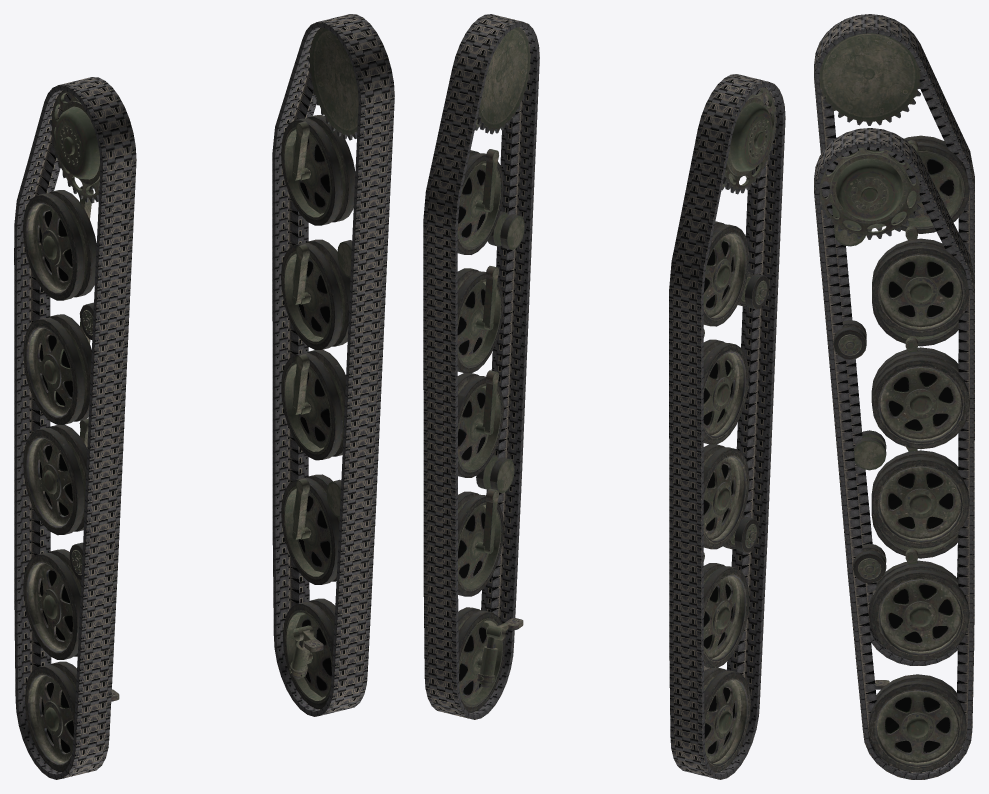
The model's file is Chassis.glb.
The picture shows the model from 3 angles, left to right: view 1: azimuth 30°, elevation 25°; view 2: azimuth 150°, elevation 25°; view 3: azimuth 270°, elevation 25°; orthographic projection. The views are drawn at different scales.
Parts seen in each view (by area): view 1: set_0_group_0, set_1_group_0, set_2_group_0, set_3_group_0; view 2: set_0_group_0, set_1_group_0, set_3_group_0, set_2_group_0; view 3: set_3_group_0, set_1_group_0, set_2_group_0, set_0_group_0.
Part boxes in pixels (x1=…): set_0_group_0: x1=14, y1=77, x2=136, y2=779; set_1_group_0: x1=272, y1=14, x2=394, y2=716; set_2_group_0: x1=23, y1=90, x2=119, y2=772; set_3_group_0: x1=281, y1=27, x2=358, y2=709; set_0_group_0: x1=669, y1=74, x2=785, y2=779; set_1_group_0: x1=423, y1=14, x2=539, y2=719; set_3_group_0: x1=457, y1=27, x2=530, y2=712; set_2_group_0: x1=703, y1=87, x2=775, y2=772; set_3_group_0: x1=819, y1=147, x2=969, y2=772; set_1_group_0: x1=814, y1=128, x2=974, y2=779; set_2_group_0: x1=819, y1=33, x2=969, y2=646; set_0_group_0: x1=814, y1=14, x2=974, y2=665.
Bounding box in the file's own units: 1.98 × 4.44 × 1.02.
Materials: 4 (4 with a texture image).
